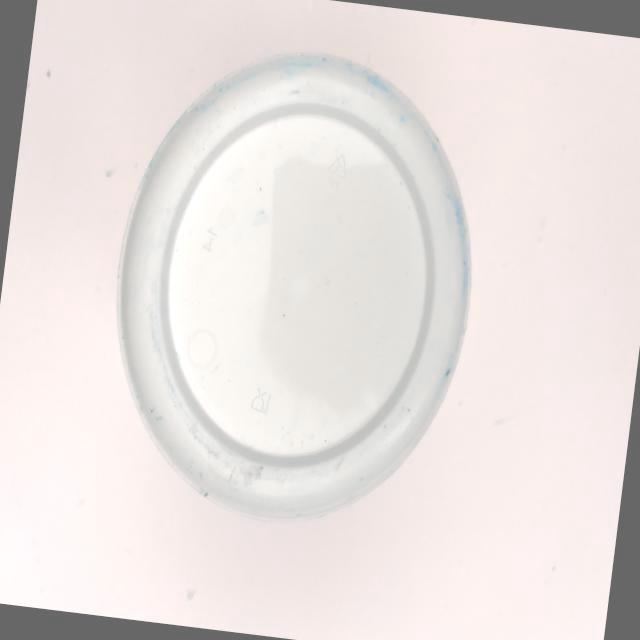plastic: (82, 19, 524, 560)
